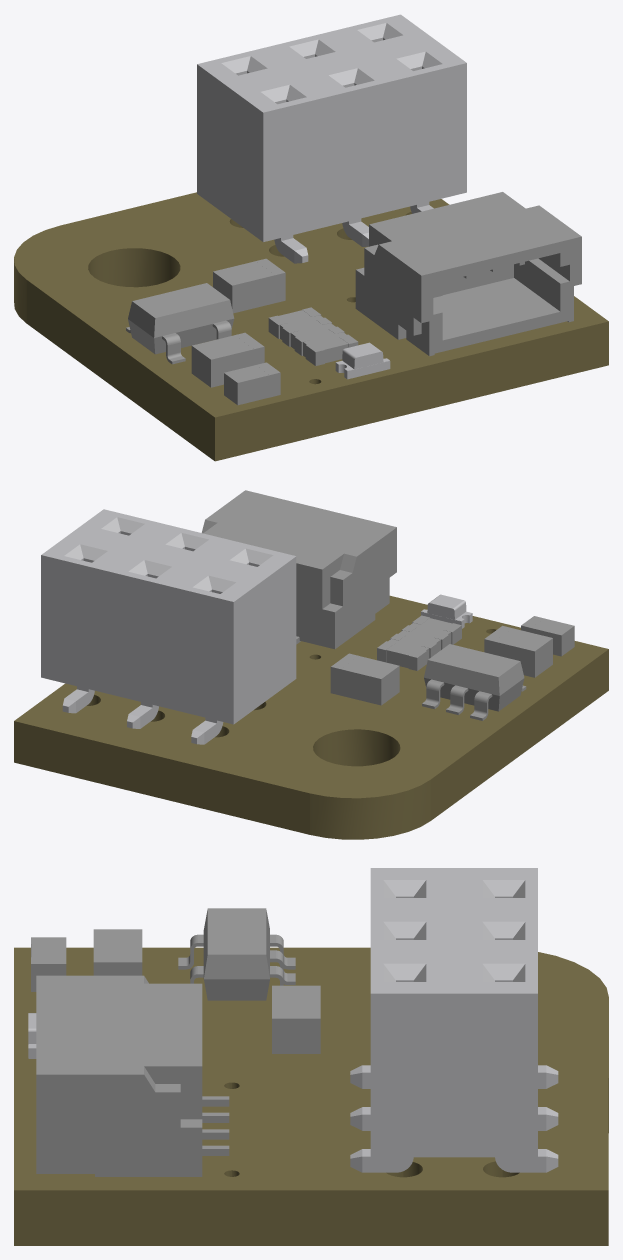
The model's file is ada-6365.glb.
3 views of the same model, one above another, from view 1: azimuth 30°, elevation 25°; view 2: azimuth 150°, elevation 25°; view 3: azimuth 270°, elevation 25° (orthographic). The views are drawn at different scales.
Parts seen in each view (by area): view 1: 0.16666666666666666_0.16666666666666666_0.08333333333333333_, 0.5833333333333334_0.5833333333333334_0.5833333333333334_0.8, 0.3333333333333333_0.3333333333333333_0.3333333333333333_0; view 2: 0.16666666666666666_0.16666666666666666_0.08333333333333333_, 0.5833333333333334_0.5833333333333334_0.5833333333333334_0.8, 0.3333333333333333_0.3333333333333333_0.3333333333333333_0; view 3: 0.16666666666666666_0.16666666666666666_0.08333333333333333_, 0.5833333333333334_0.5833333333333334_0.5833333333333334_0.8, 0.3333333333333333_0.3333333333333333_0.3333333333333333_0.
Part boxes in pixels (box(x1,y1,x2,y2)): 0.16666666666666666_0.16666666666666666_0.08333333333333333_: box(14, 192, 608, 461); 0.5833333333333334_0.5833333333333334_0.5833333333333334_0.8: box(197, 14, 466, 379); 0.3333333333333333_0.3333333333333333_0.3333333333333333_0: box(126, 192, 581, 405); 0.16666666666666666_0.16666666666666666_0.08333333333333333_: box(14, 595, 608, 839); 0.5833333333333334_0.5833333333333334_0.5833333333333334_0.8: box(41, 509, 472, 744); 0.3333333333333333_0.3333333333333333_0.3333333333333333_0: box(201, 490, 574, 720); 0.16666666666666666_0.16666666666666666_0.08333333333333333_: box(14, 947, 608, 1245); 0.5833333333333334_0.5833333333333334_0.5833333333333334_0.8: box(28, 868, 558, 1172); 0.3333333333333333_0.3333333333333333_0.3333333333333333_0: box(31, 908, 320, 1176).
Bounding box in the file's own units: 1.47 × 0.712 × 1.52.
